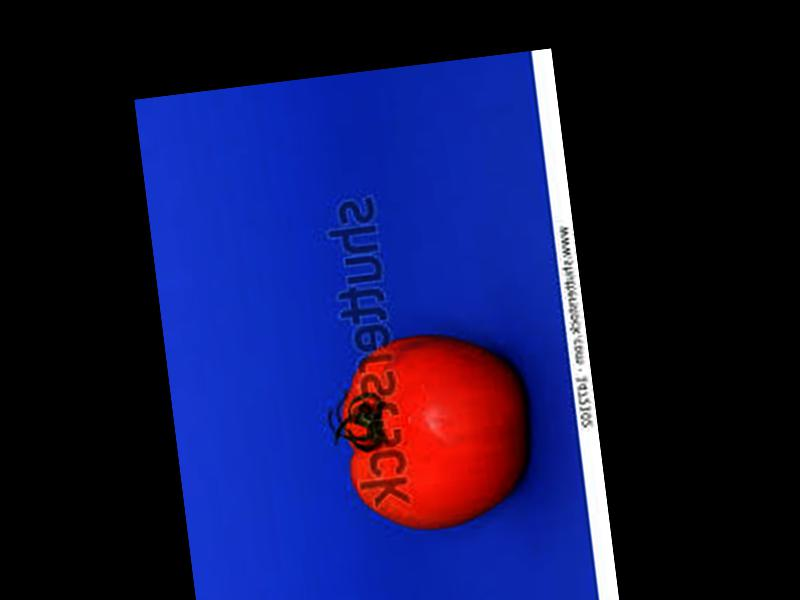Tomato: (332, 327, 537, 542)
